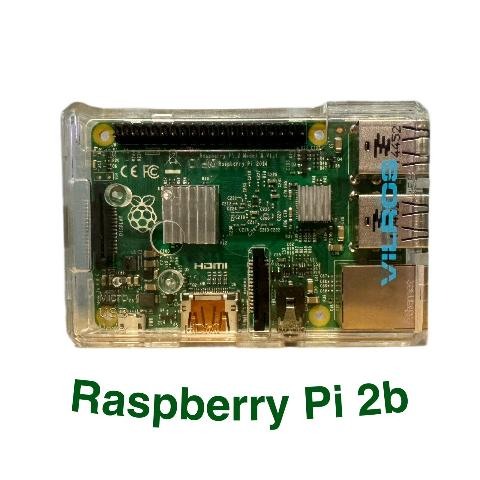Raspberry-Pi-2-Model-B: (47, 91, 440, 361)
